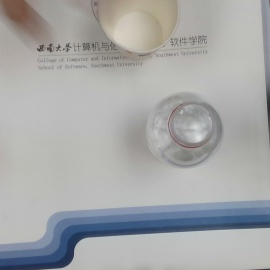bottle: (145, 91, 225, 167)
cup: (97, 1, 179, 54)
